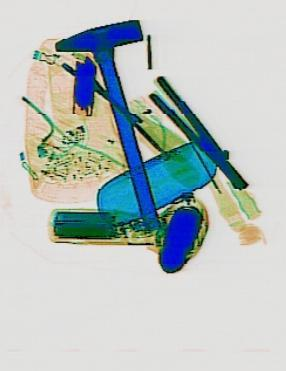Pliers: (145, 74, 251, 197)
